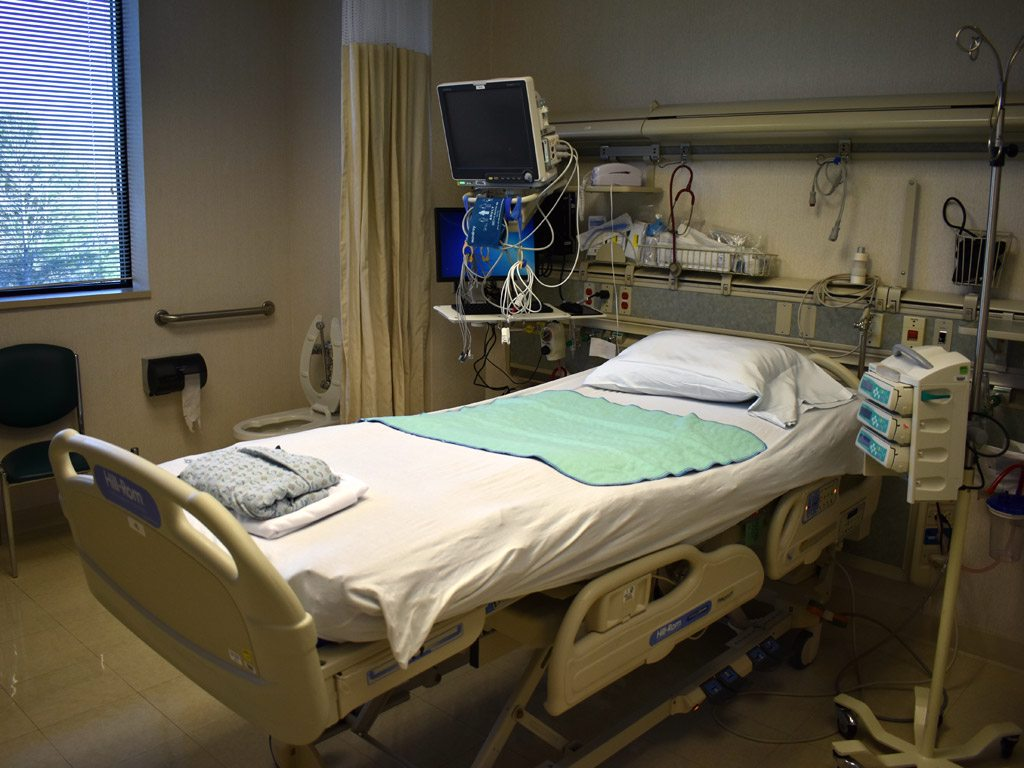bedrail: (525, 543, 766, 718), (769, 465, 882, 580)
bedside_monitor: (433, 74, 560, 185)
chair: (1, 340, 84, 575)
computer: (433, 203, 540, 280)
curtain: (335, 1, 436, 428)
dispenser: (141, 353, 206, 397)
foot_board: (42, 425, 330, 744)
hospital_bed: (49, 353, 900, 768)
iv_pole: (950, 20, 1017, 471)
keyboard: (446, 299, 543, 315)
mouse: (557, 300, 588, 316)
restroom_assist_bar: (158, 300, 281, 329)
syringe_pump: (855, 400, 933, 444), (863, 433, 941, 477), (864, 363, 942, 406)
telephone: (577, 162, 642, 222)
toilet: (233, 315, 351, 446)
